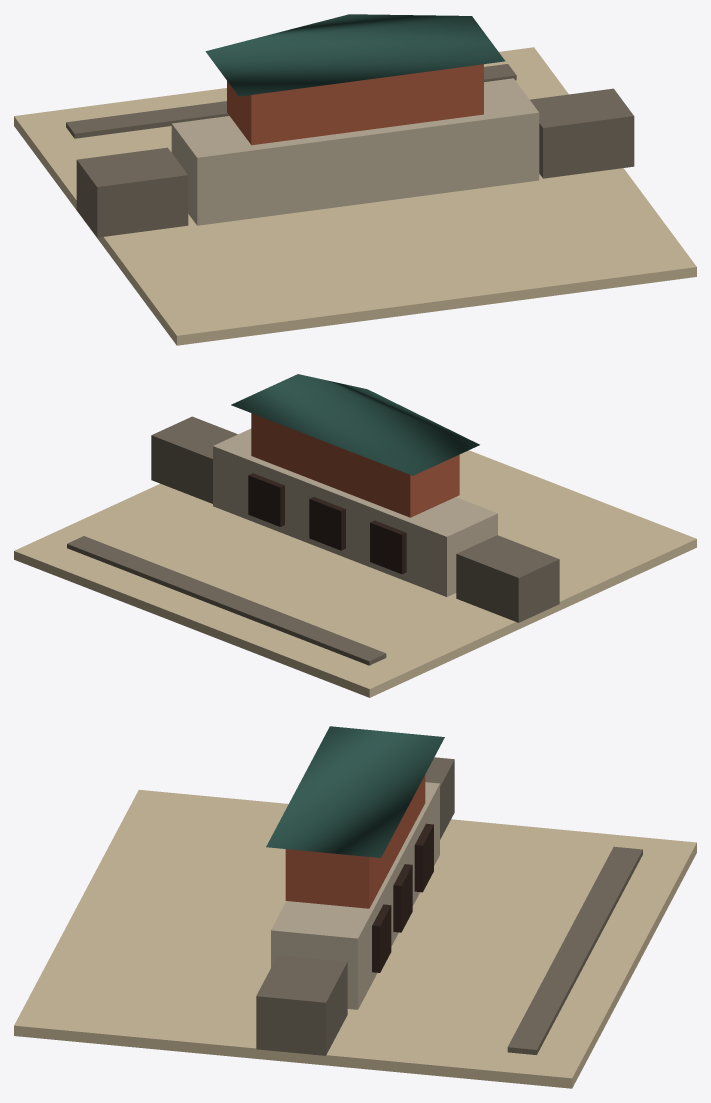
File: model-medium.glb
The picture shows the model from 3 angles, top to bottom: view 1: azimuth 30°, elevation 25°; view 2: azimuth 150°, elevation 25°; view 3: azimuth 270°, elevation 25°; orthographic projection. The views are drawn at different scales.
Parts seen in each view (by area): view 1: context_site_plinth, city_gate_platform, side_wall_segment (×2), gatehouse_roof, upper_gatehouse_body, front_scale_strip; view 2: context_site_plinth, city_gate_platform, gatehouse_roof, side_wall_segment (×2), upper_gatehouse_body, front_scale_strip, arched_gate_opening (×3); view 3: context_site_plinth, gatehouse_roof, side_wall_segment (×2), city_gate_platform, front_scale_strip, upper_gatehouse_body, arched_gate_opening (×3).
Boxes of the visible parts, x1,y1,x2,y2 form: context_site_plinth: [14, 47, 696, 345]; city_gate_platform: [171, 78, 539, 225]; side_wall_segment (×2): [76, 88, 634, 237]; gatehouse_roof: [205, 14, 505, 96]; upper_gatehouse_body: [227, 64, 483, 145]; front_scale_strip: [66, 64, 516, 138]; context_site_plinth: [14, 450, 696, 697]; city_gate_platform: [213, 428, 497, 596]; gatehouse_roof: [231, 374, 479, 475]; side_wall_segment (×2): [151, 416, 559, 622]; upper_gatehouse_body: [251, 413, 459, 517]; front_scale_strip: [67, 536, 386, 665]; arched_gate_opening (×3): [248, 473, 406, 574]; context_site_plinth: [14, 789, 696, 1088]; gatehouse_roof: [266, 726, 444, 857]; side_wall_segment (×2): [256, 757, 454, 1055]; city_gate_platform: [271, 782, 439, 1009]; front_scale_strip: [507, 846, 642, 1054]; upper_gatehouse_body: [285, 775, 425, 908]; arched_gate_opening (×3): [372, 823, 433, 972].
Bounding box in the file's own units: 9.55 × 2.9 × 9.55.
